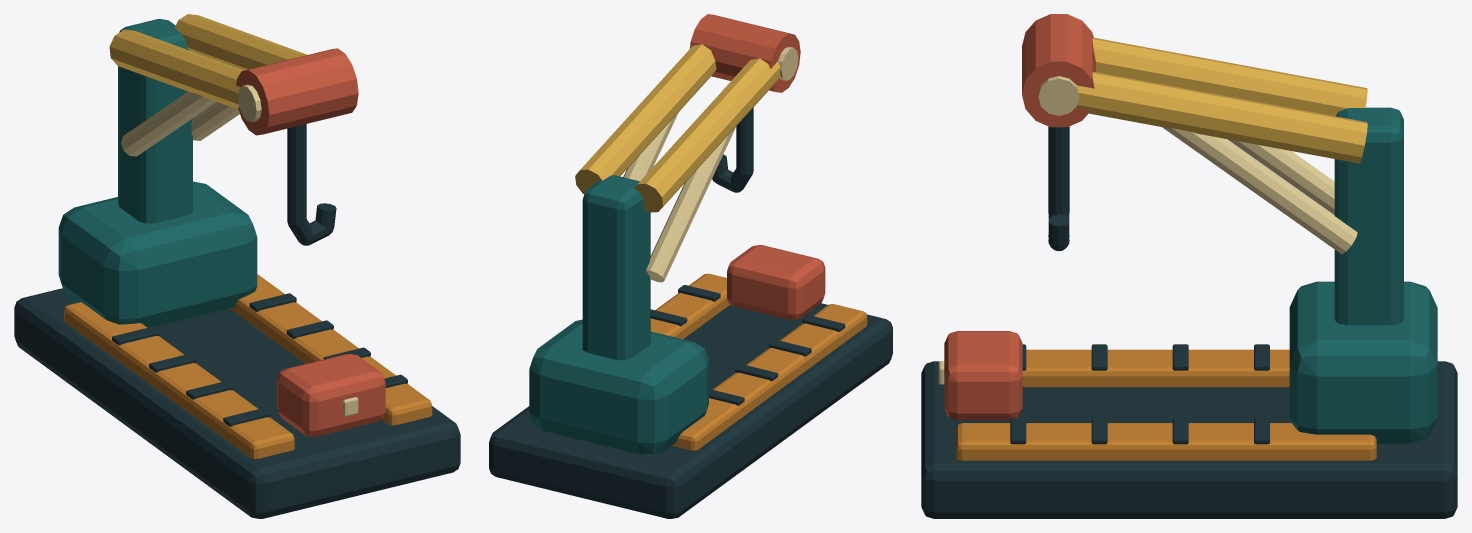
Rendered from PL_HookGantry.glb.
3 renders of one model, left to right at view 1: azimuth 30°, elevation 25°; view 2: azimuth 150°, elevation 25°; view 3: azimuth 270°, elevation 25°, orthographic. The views are drawn at different scales.
Visible parts, largest first — view 1: ROOT_HookGantry_Surface; view 2: ROOT_HookGantry_Surface; view 3: ROOT_HookGantry_Surface.
Boxes of the visible parts, x1,y1,x2,y2 form: ROOT_HookGantry_Surface: [14, 14, 460, 518]; ROOT_HookGantry_Surface: [489, 14, 892, 518]; ROOT_HookGantry_Surface: [921, 14, 1457, 518].
Size of the model in its own units: 0.92 by 1.63 by 1.85.
